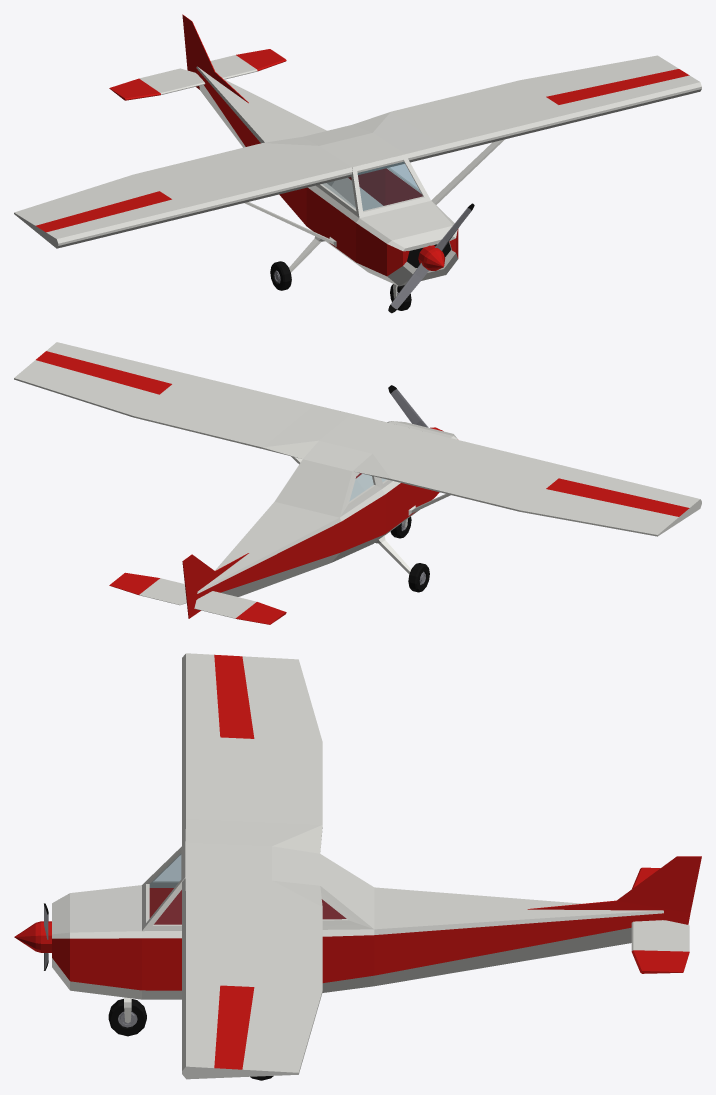
The model's file is cessna152.obj.
3 renders of one model, top to bottom at view 1: azimuth 30°, elevation 25°; view 2: azimuth 150°, elevation 25°; view 3: azimuth 270°, elevation 25°, orthographic. The views are drawn at different scales.
Size of the model in its own units: 10.11 by 2.03 by 7.11.
